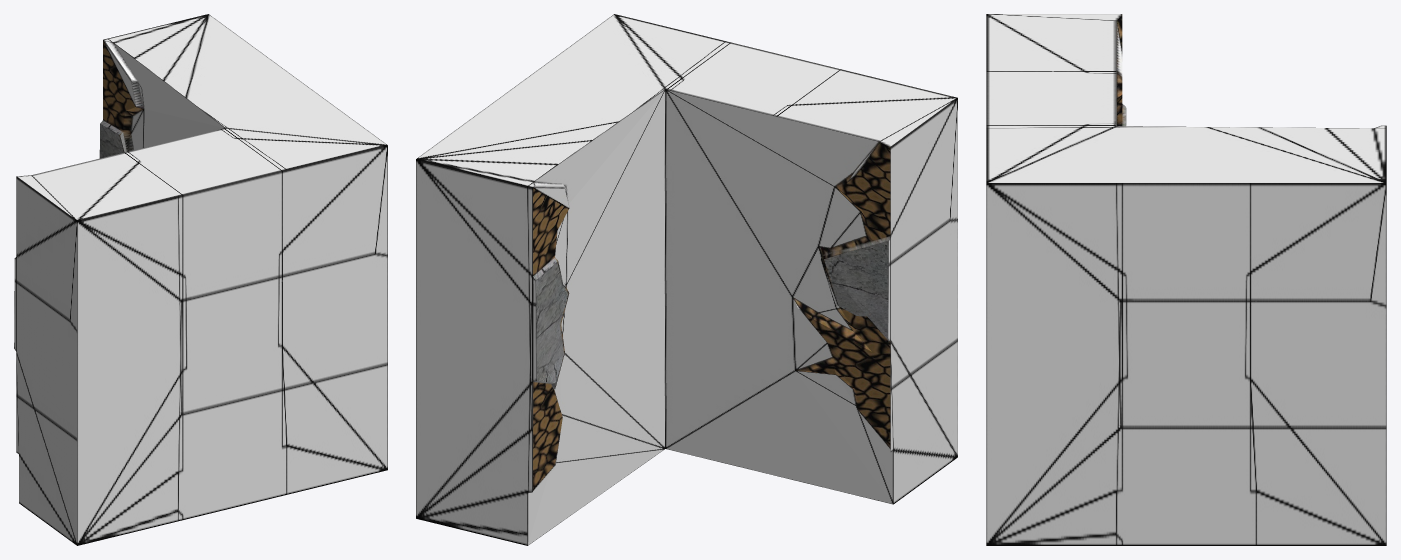
File: EspacioPirateriaEsquinaCierreExteriorNI.gltf
The picture shows the model from 3 angles, left to right: view 1: azimuth 30°, elevation 25°; view 2: azimuth 150°, elevation 25°; view 3: azimuth 270°, elevation 25°; orthographic projection. The views are drawn at different scales.
Parts seen in each view (by area): view 1: Cubo.21; view 2: Cubo.21; view 3: Cubo.21.
Boxes of the visible parts, left/top/right/bottom form: Cubo.21: left=14, top=14, right=387, bottom=545; Cubo.21: left=416, top=14, right=957, bottom=545; Cubo.21: left=986, top=14, right=1386, bottom=545.
Size of the model in its own units: 2 by 2 by 2.
1 material, 1 textured.
